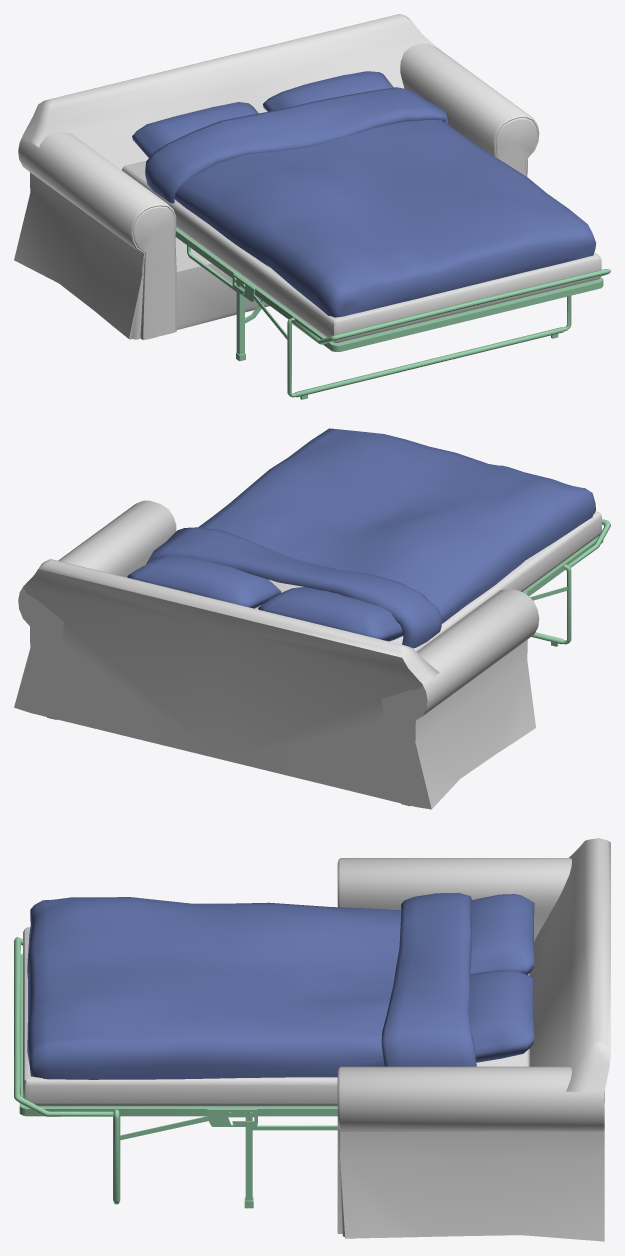
File: EktorpSofaBed02.FBX
3 views of the same model, one above another, from view 1: azimuth 30°, elevation 25°; view 2: azimuth 150°, elevation 25°; view 3: azimuth 270°, elevation 25° (orthographic). The views are drawn at different scales.
Parts seen in each view (by area): view 1: EktorpSofaBed02; view 2: EktorpSofaBed02; view 3: EktorpSofaBed02.
Boxes of the visible parts, x1=… form: EktorpSofaBed02: x1=14, y1=14, x2=610, y2=399; EktorpSofaBed02: x1=14, y1=428, x2=610, y2=809; EktorpSofaBed02: x1=14, y1=838, x2=610, y2=1241.
Bounding box in the file's own units: 200 × 210 × 74.01.
